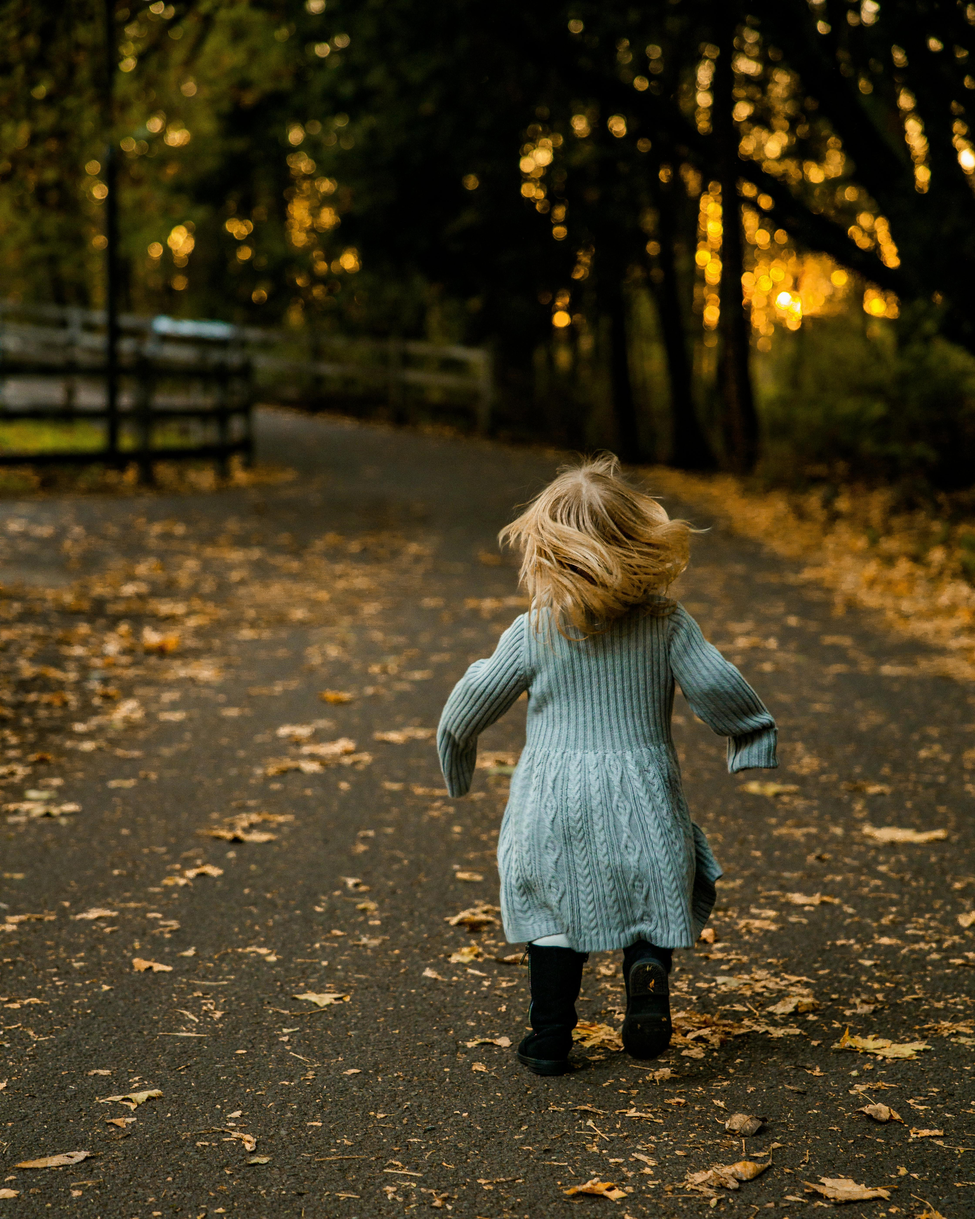Human: (434, 462, 769, 1105)
